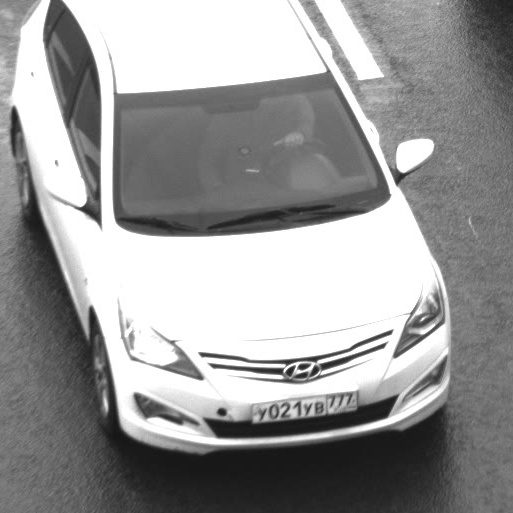plate: (239, 382, 367, 431)
